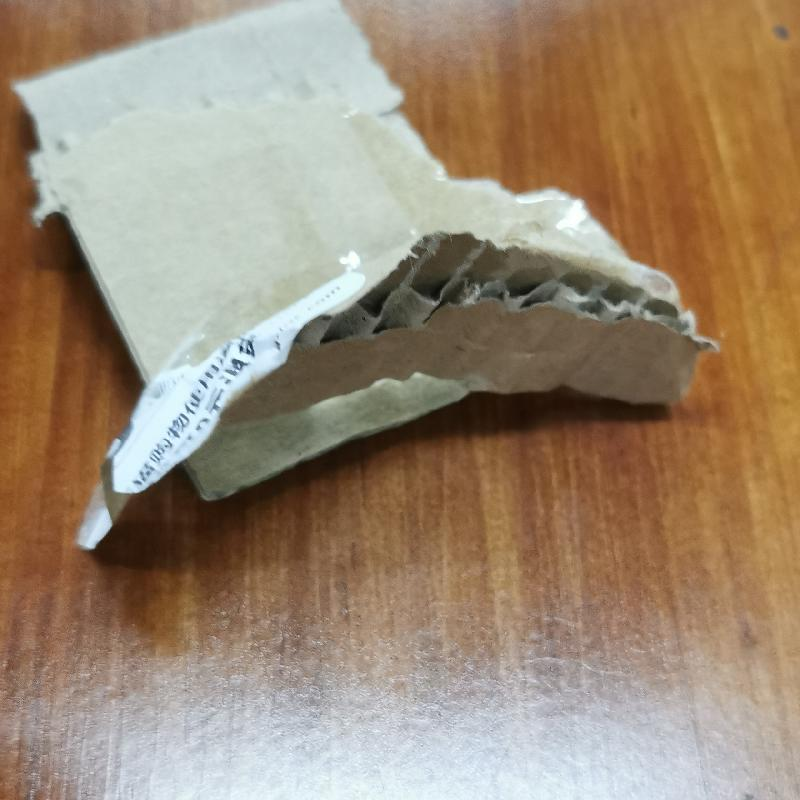boxes: (6, 11, 713, 511)
